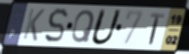7: (122, 9, 146, 48)
K: (21, 7, 46, 43)
Q: (70, 9, 96, 45)
S: (43, 7, 69, 45)
T: (148, 12, 166, 47)
U: (89, 8, 125, 47)
